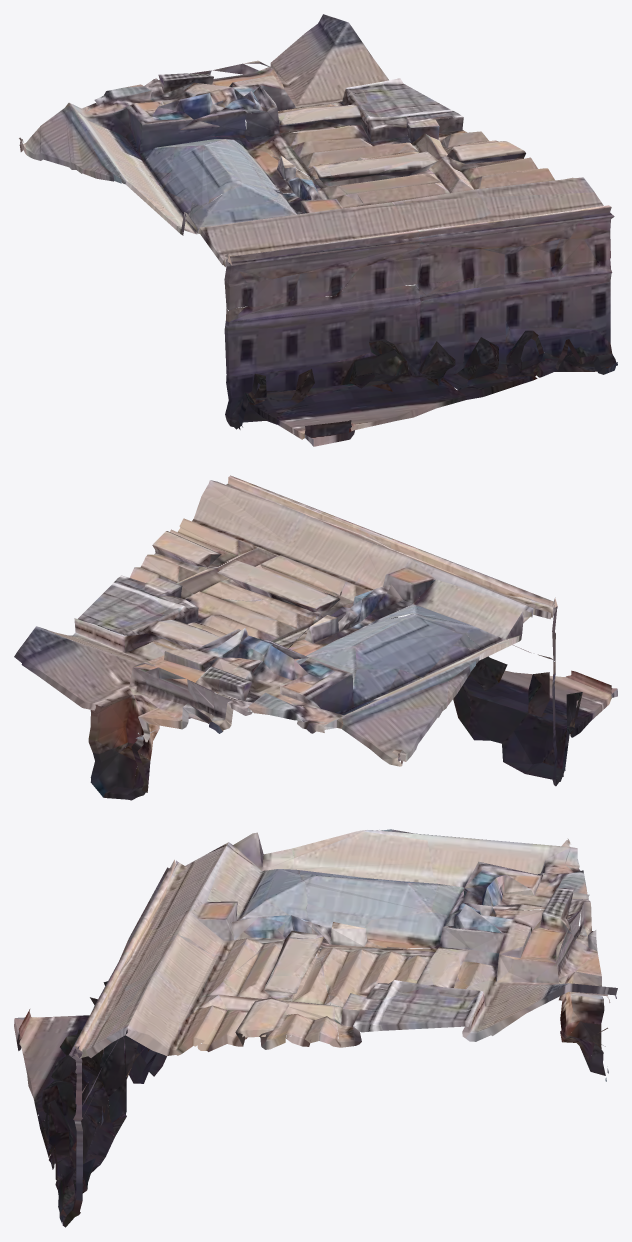
The picture shows the model from 3 angles, top to bottom: view 1: azimuth 30°, elevation 25°; view 2: azimuth 150°, elevation 25°; view 3: azimuth 270°, elevation 25°; orthographic projection. The views are drawn at different scales.
Parts seen in each view (by area): view 1: Mesh_0; view 2: Mesh_0; view 3: Mesh_0.
Part boxes in pixels (bbox=[...]): Mesh_0: bbox=[19, 14, 617, 446]; Mesh_0: bbox=[14, 475, 617, 800]; Mesh_0: bbox=[14, 829, 617, 1227].
Size of the model in its own units: 67.49 by 34.44 by 82.44.
2 materials, 2 textured.
